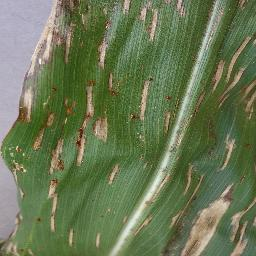Gray_Leaf_Spot: (207, 0, 256, 256), (163, 158, 207, 256), (23, 0, 85, 66), (73, 81, 110, 167), (0, 142, 24, 256), (42, 126, 66, 235), (134, 181, 163, 238), (123, 0, 159, 43), (85, 0, 107, 69), (12, 68, 38, 125), (183, 85, 207, 143), (131, 72, 155, 124), (108, 11, 120, 99), (161, 87, 181, 135), (41, 97, 71, 126), (158, 0, 193, 21), (107, 160, 120, 187), (31, 126, 42, 154), (65, 225, 77, 249), (168, 137, 183, 154), (93, 229, 100, 253), (121, 213, 132, 227), (47, 86, 58, 98), (101, 206, 112, 216), (32, 216, 42, 226)
